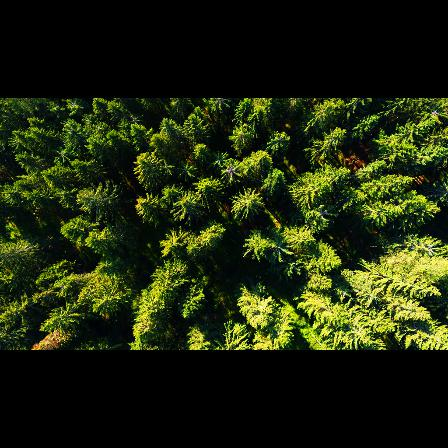Sick: (263, 231, 295, 266), (306, 199, 340, 231), (219, 158, 245, 186), (122, 110, 149, 132), (173, 161, 196, 183), (51, 146, 73, 164)
